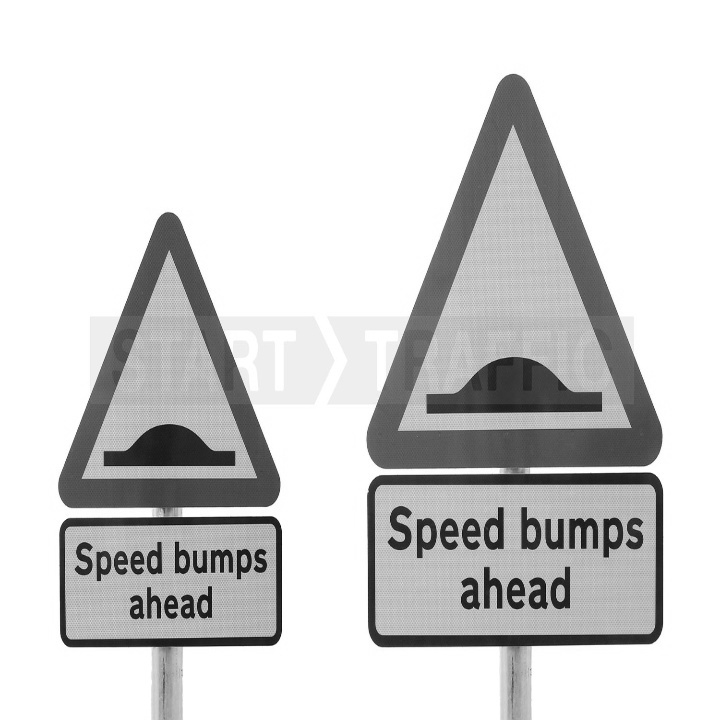bump: (417, 334, 608, 418), (90, 411, 244, 474)
